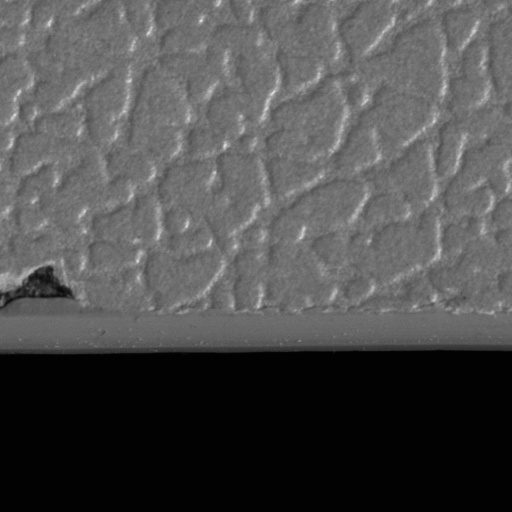bengque: (4, 264, 76, 302)
